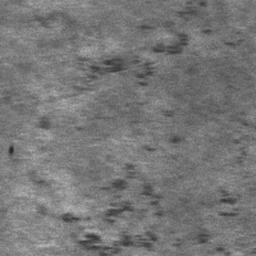Rolled in scale: (73, 0, 240, 137), (58, 164, 256, 256), (201, 110, 256, 218), (35, 12, 76, 41), (142, 137, 181, 161), (8, 145, 19, 163), (34, 180, 49, 187)
